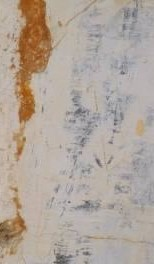Corrosion: (12, 1, 52, 162), (1, 185, 28, 257)
